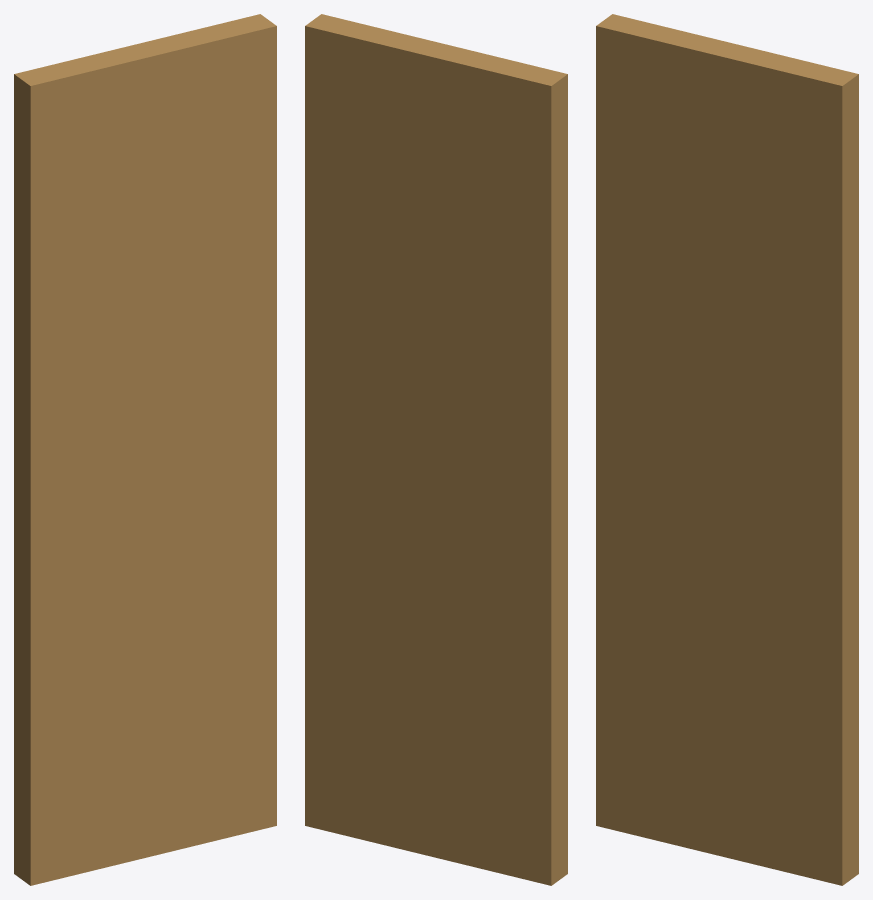
The picture shows the model from 3 angles, left to right: view 1: azimuth 30°, elevation 25°; view 2: azimuth 150°, elevation 25°; view 3: azimuth 330°, elevation 25°; orthographic projection.
Parts seen in each view (by area): view 1: FF-W075; view 2: FF-W075; view 3: FF-W075.
Part boxes in pixels (x1,y1,x2,y2): FF-W075: (14, 14, 276, 885); FF-W075: (305, 14, 567, 885); FF-W075: (596, 14, 858, 885).
Size of the model in its own units: 0.7801 by 2.42 by 0.09.
